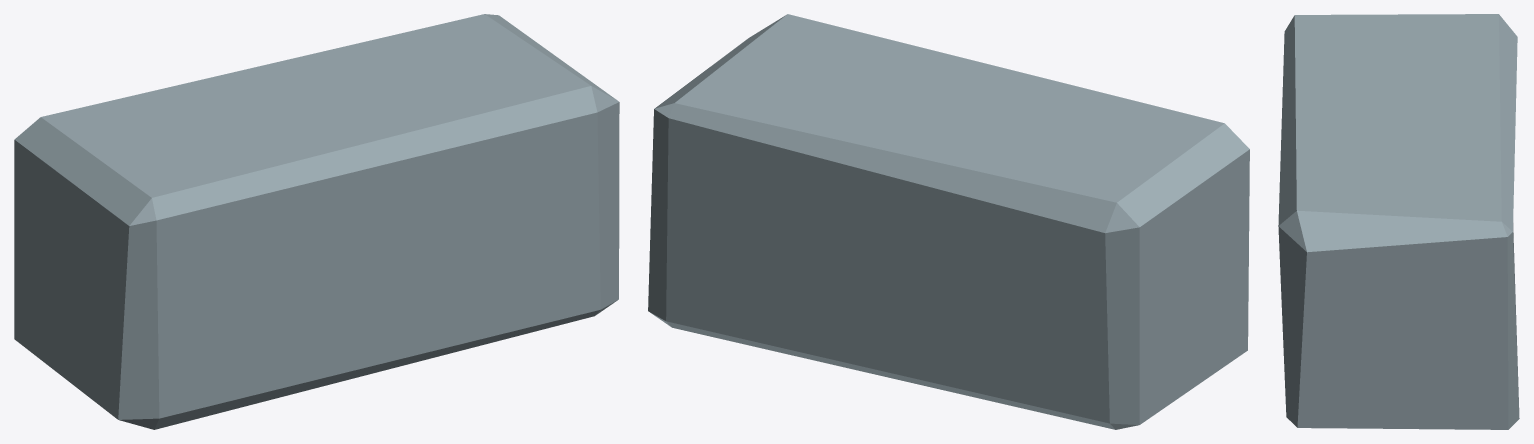
File: StoneBlock01.fbx
3 renders of one model, left to right at view 1: azimuth 30°, elevation 25°; view 2: azimuth 150°, elevation 25°; view 3: azimuth 270°, elevation 25°, orthographic. The views are drawn at different scales.
Parts seen in each view (by area): view 1: Cube; view 2: Cube; view 3: Cube.
Part boxes in pixels (bbox=[...]): Cube: bbox=[14, 14, 619, 429]; Cube: bbox=[648, 14, 1249, 429]; Cube: bbox=[1278, 14, 1519, 429].
Bounding box in the file's own units: 475 × 212 × 213.
